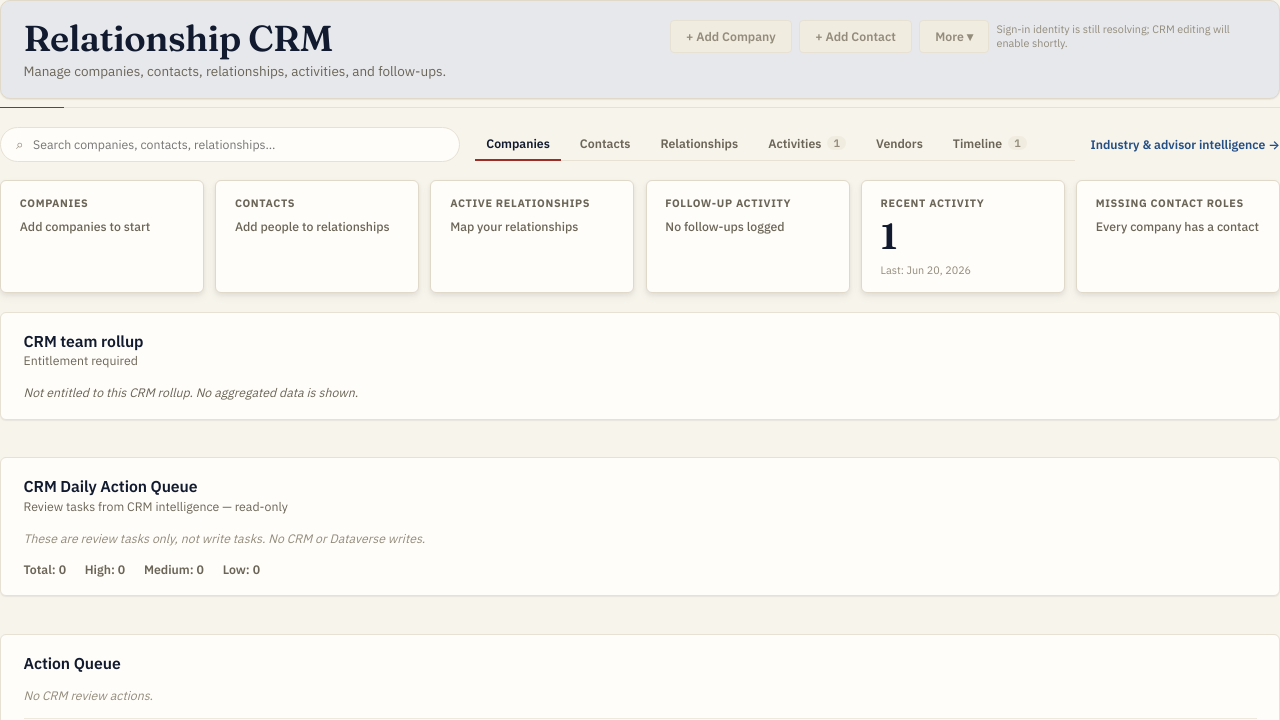
Test: Phase 260 — CrmHubWorkspace (elite cockpit) › switches views and renders an activity timeline
Click the tab "Timeline 1": (990, 144) [942,128,1038,160]
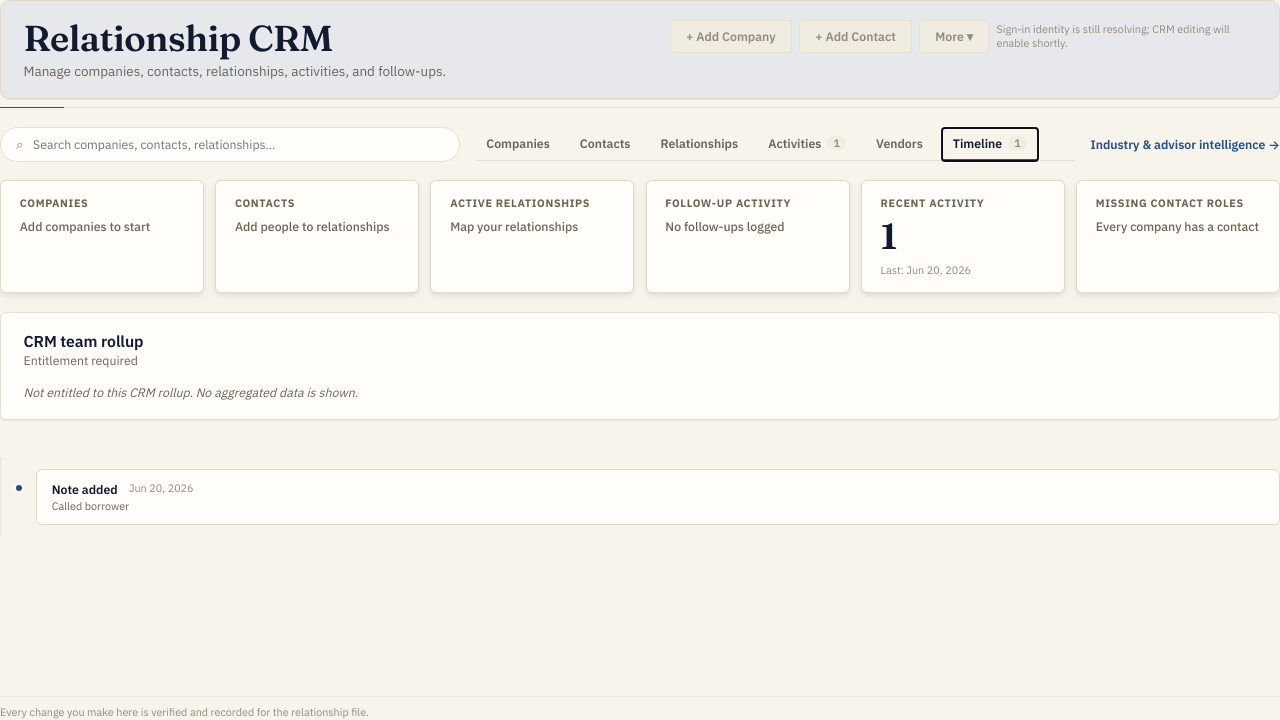
Now the list is shown, box [0,457,1279,536]
Now the text "Note added" is shown, box [52,481,118,497]
